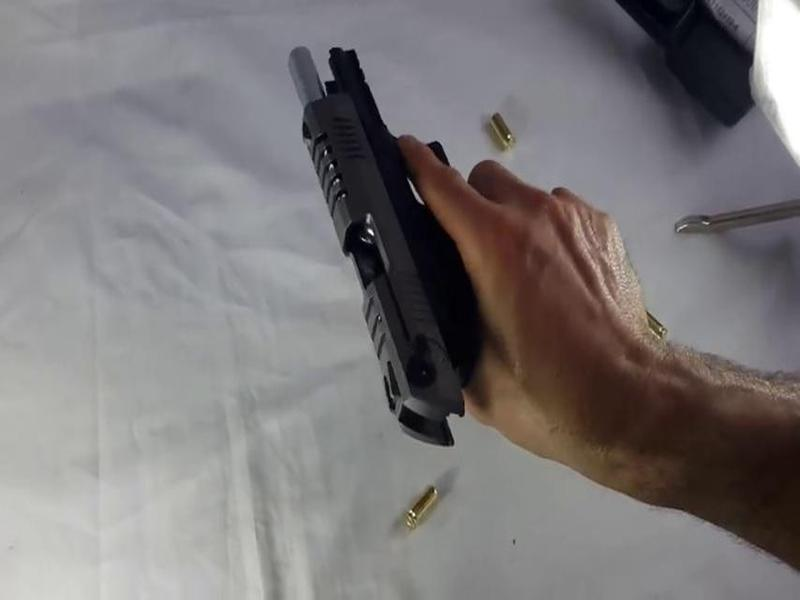Pistola: (286, 21, 542, 447)
